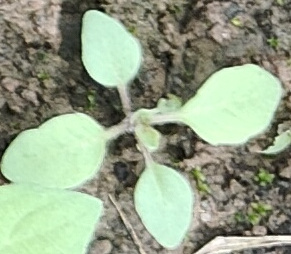马蹄金: (15, 18, 268, 241), (10, 186, 69, 246)
